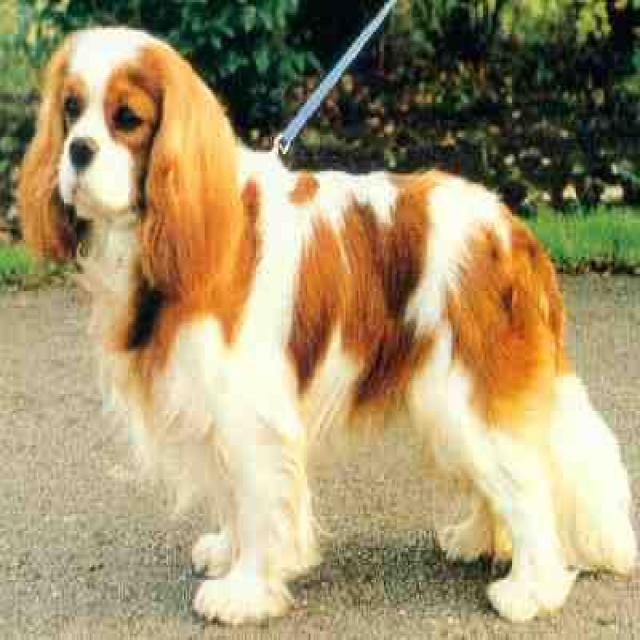blenheim_spaniel: (17, 23, 634, 623)
